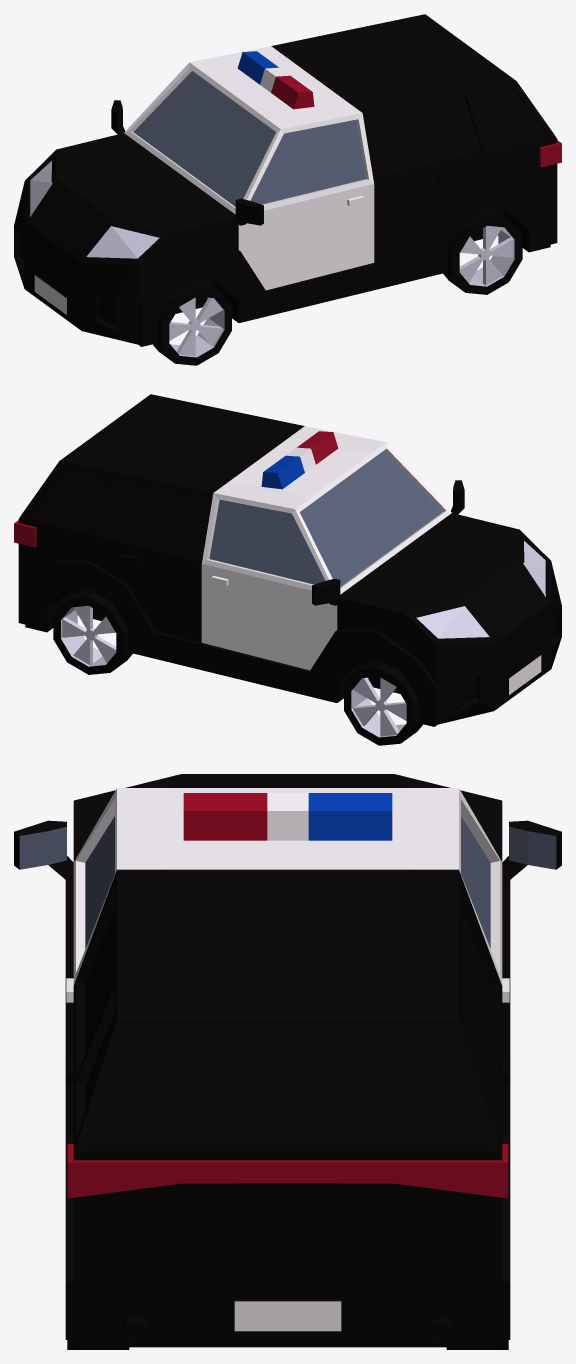
The model's file is police.glb.
3 views of the same model, one above another, from view 1: azimuth 30°, elevation 25°; view 2: azimuth 150°, elevation 25°; view 3: azimuth 270°, elevation 25° (orthographic). The views are drawn at different scales.
Visible parts, largest first — view 1: chassis, blwheel, flwheel; view 2: chassis, brwheel, frwheel; view 3: chassis.
Part boxes in pixels (x1,y1,x2,y2): chassis: [14, 14, 561, 346]; blwheel: [443, 208, 522, 294]; flwheel: [153, 279, 231, 365]; chassis: [14, 394, 561, 726]; brwheel: [53, 588, 132, 674]; frwheel: [344, 659, 422, 745]; chassis: [14, 774, 561, 1347].
Bounding box in the file's own units: 5.04 × 2.31 × 2.81.
